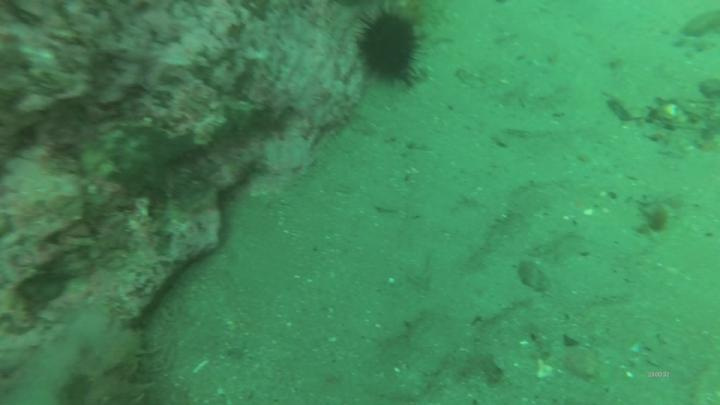echinus: (363, 17, 416, 80)
scallop: (564, 344, 601, 379), (517, 264, 552, 293), (663, 102, 682, 120)
